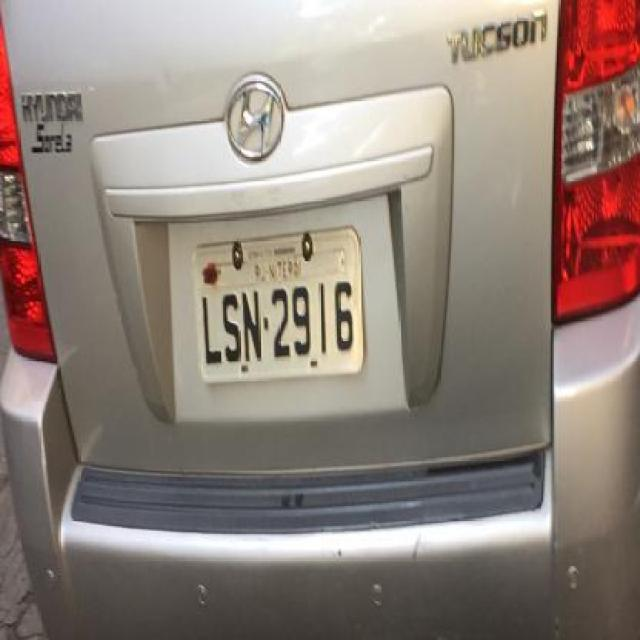old_plate: (187, 220, 369, 396)
